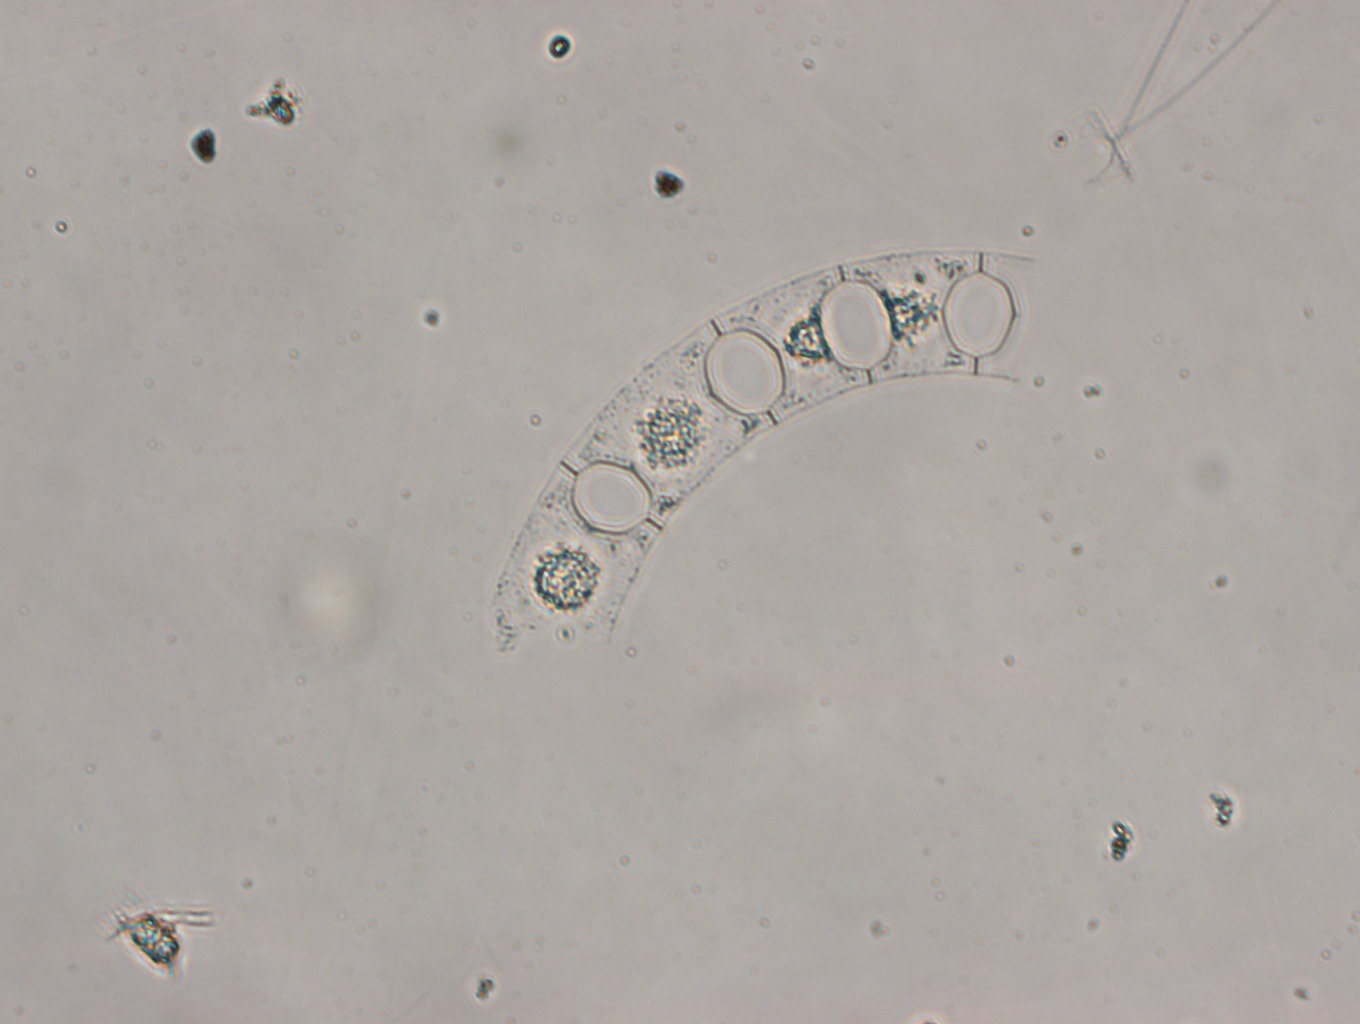eucampia: (491, 245, 1041, 649)
